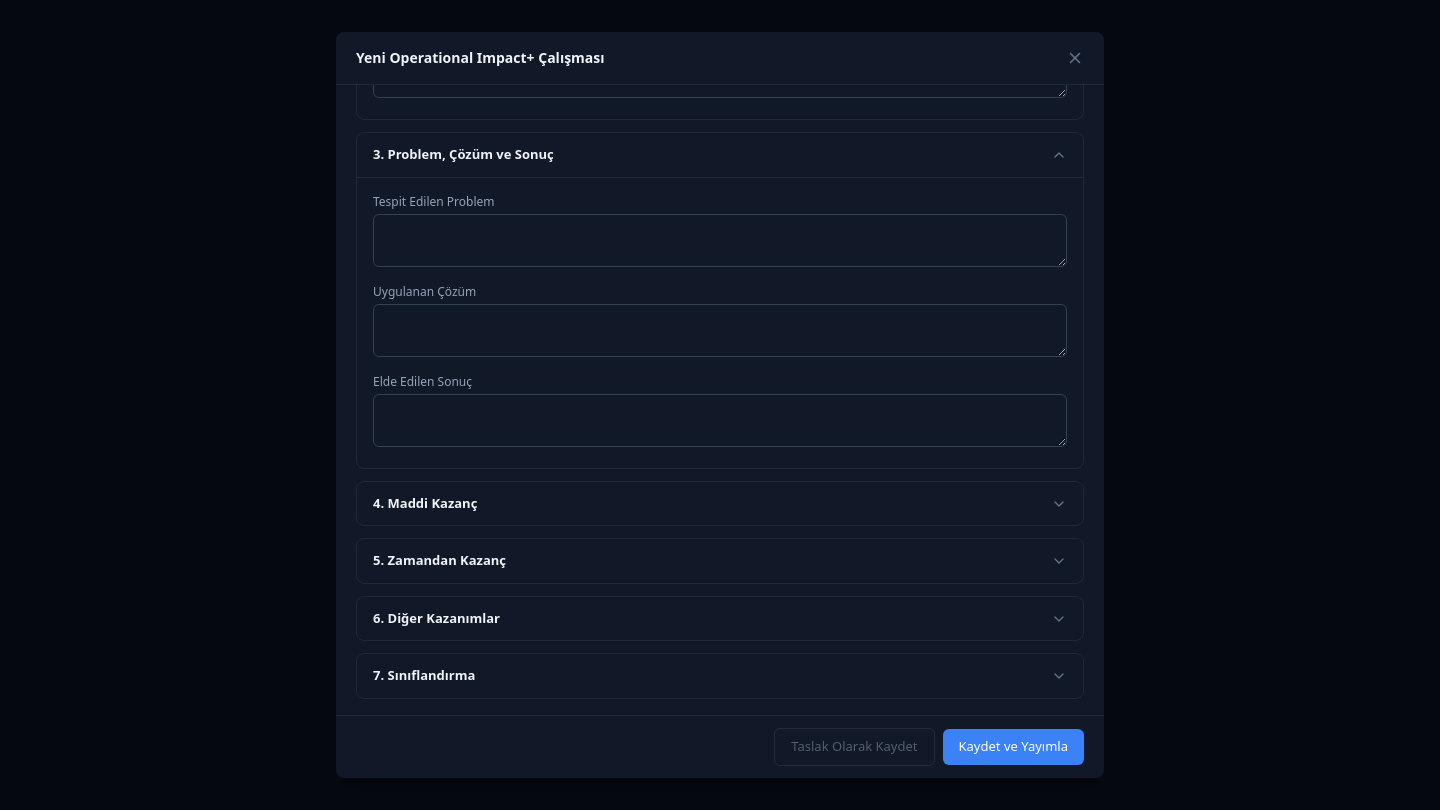
Test case: ContributionWorkForm accessibility › exposes the conditional financial-gain fields once 'Maddi Kazanç Var mı?' is set to Evet
(page scrolled)
Click the button "4. Maddi Kazanç".
click(425, 503)  # box x1=357 y1=482 x2=1083 y2=525
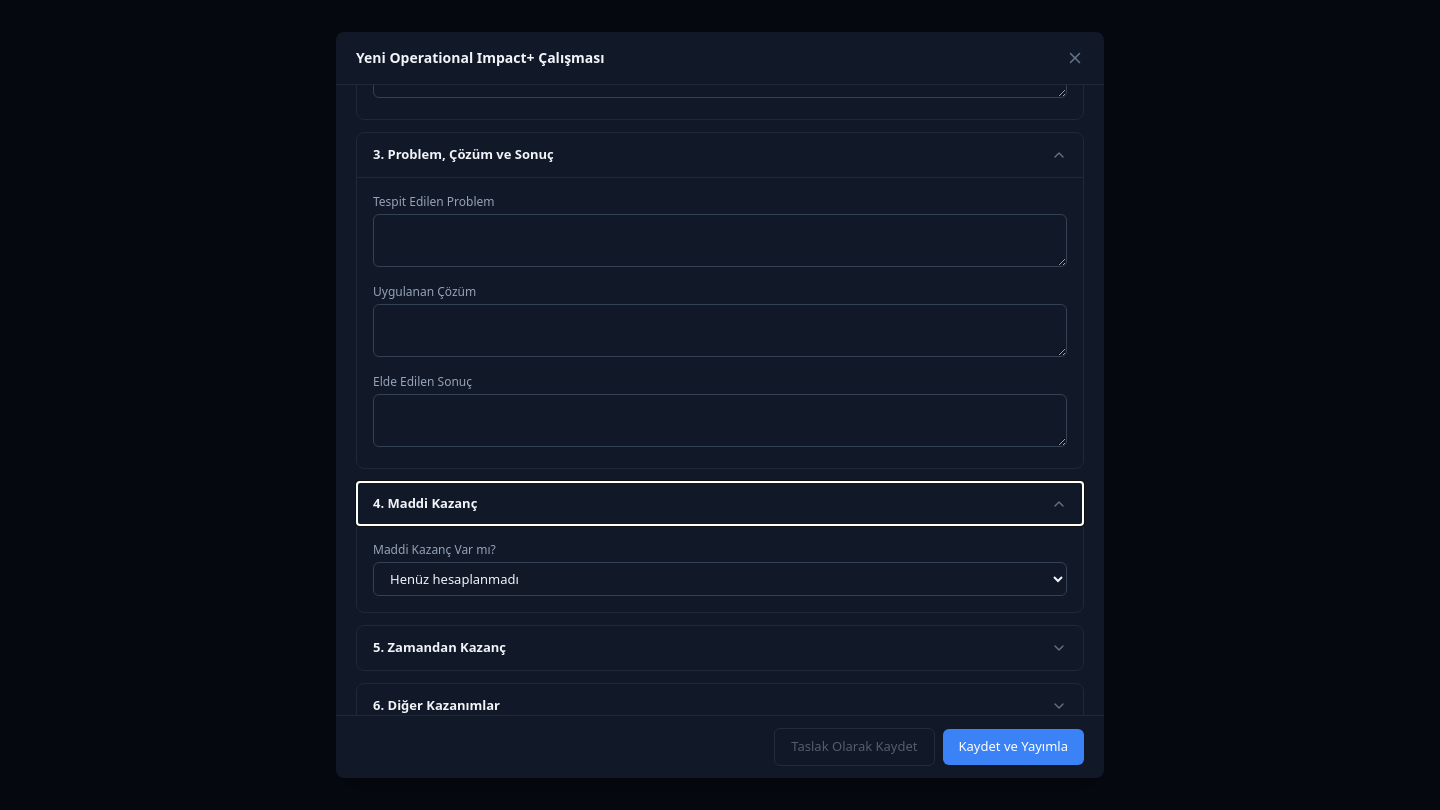
Select "Evet" in the dropdown labelled "Maddi Kazanç Var mı?" at [720, 579], box x1=373 y1=562 x2=1067 y2=596
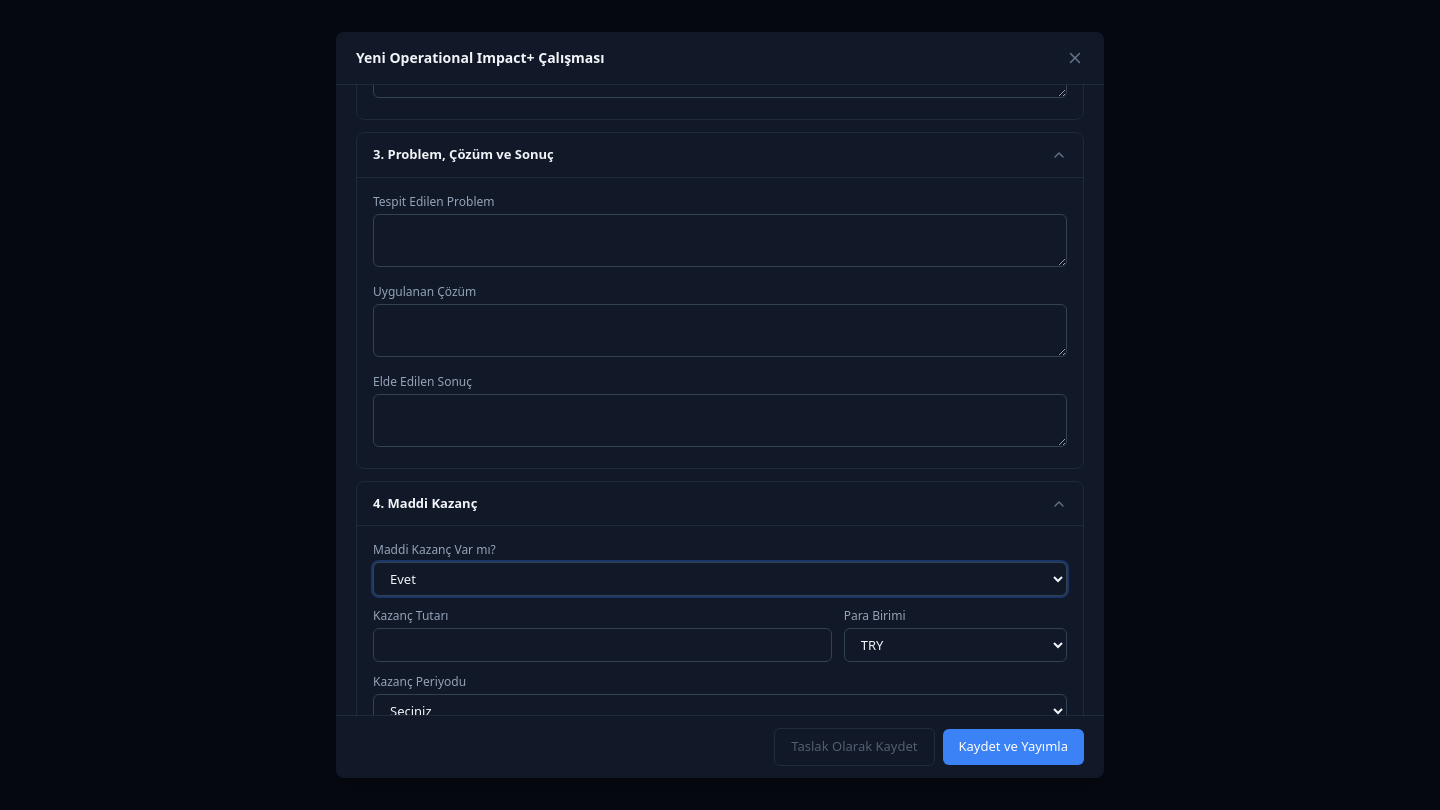
Now the number field labelled "Kazanç Tutarı" is shown, box x1=373 y1=628 x2=832 y2=662
Now the dropdown labelled "Para Birimi" is shown, box x1=844 y1=628 x2=1067 y2=662
Now the dropdown labelled "Kazanç Periyodu" is shown, box x1=373 y1=694 x2=1067 y2=715
